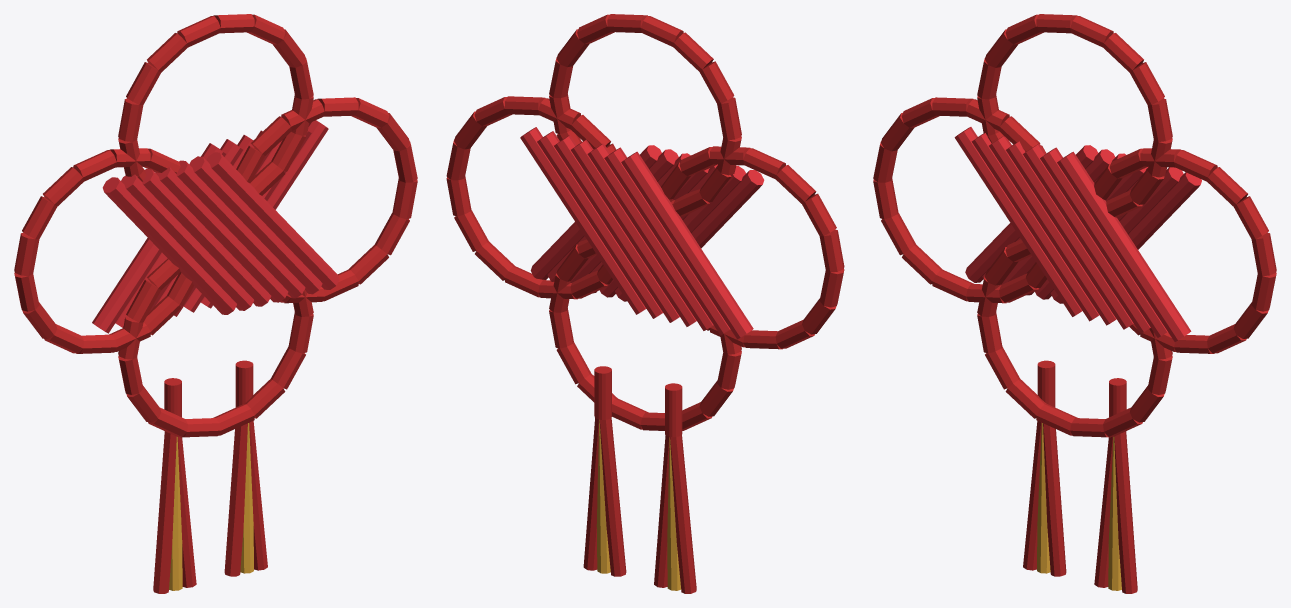
File: scendance-plan-cn-chinese-knot.glb
3 renders of one model, left to right at view 1: azimuth 30°, elevation 25°; view 2: azimuth 150°, elevation 25°; view 3: azimuth 330°, elevation 25°, orthographic.
Size of the model in its own units: 0.2588 by 0.3498 by 0.0232.
